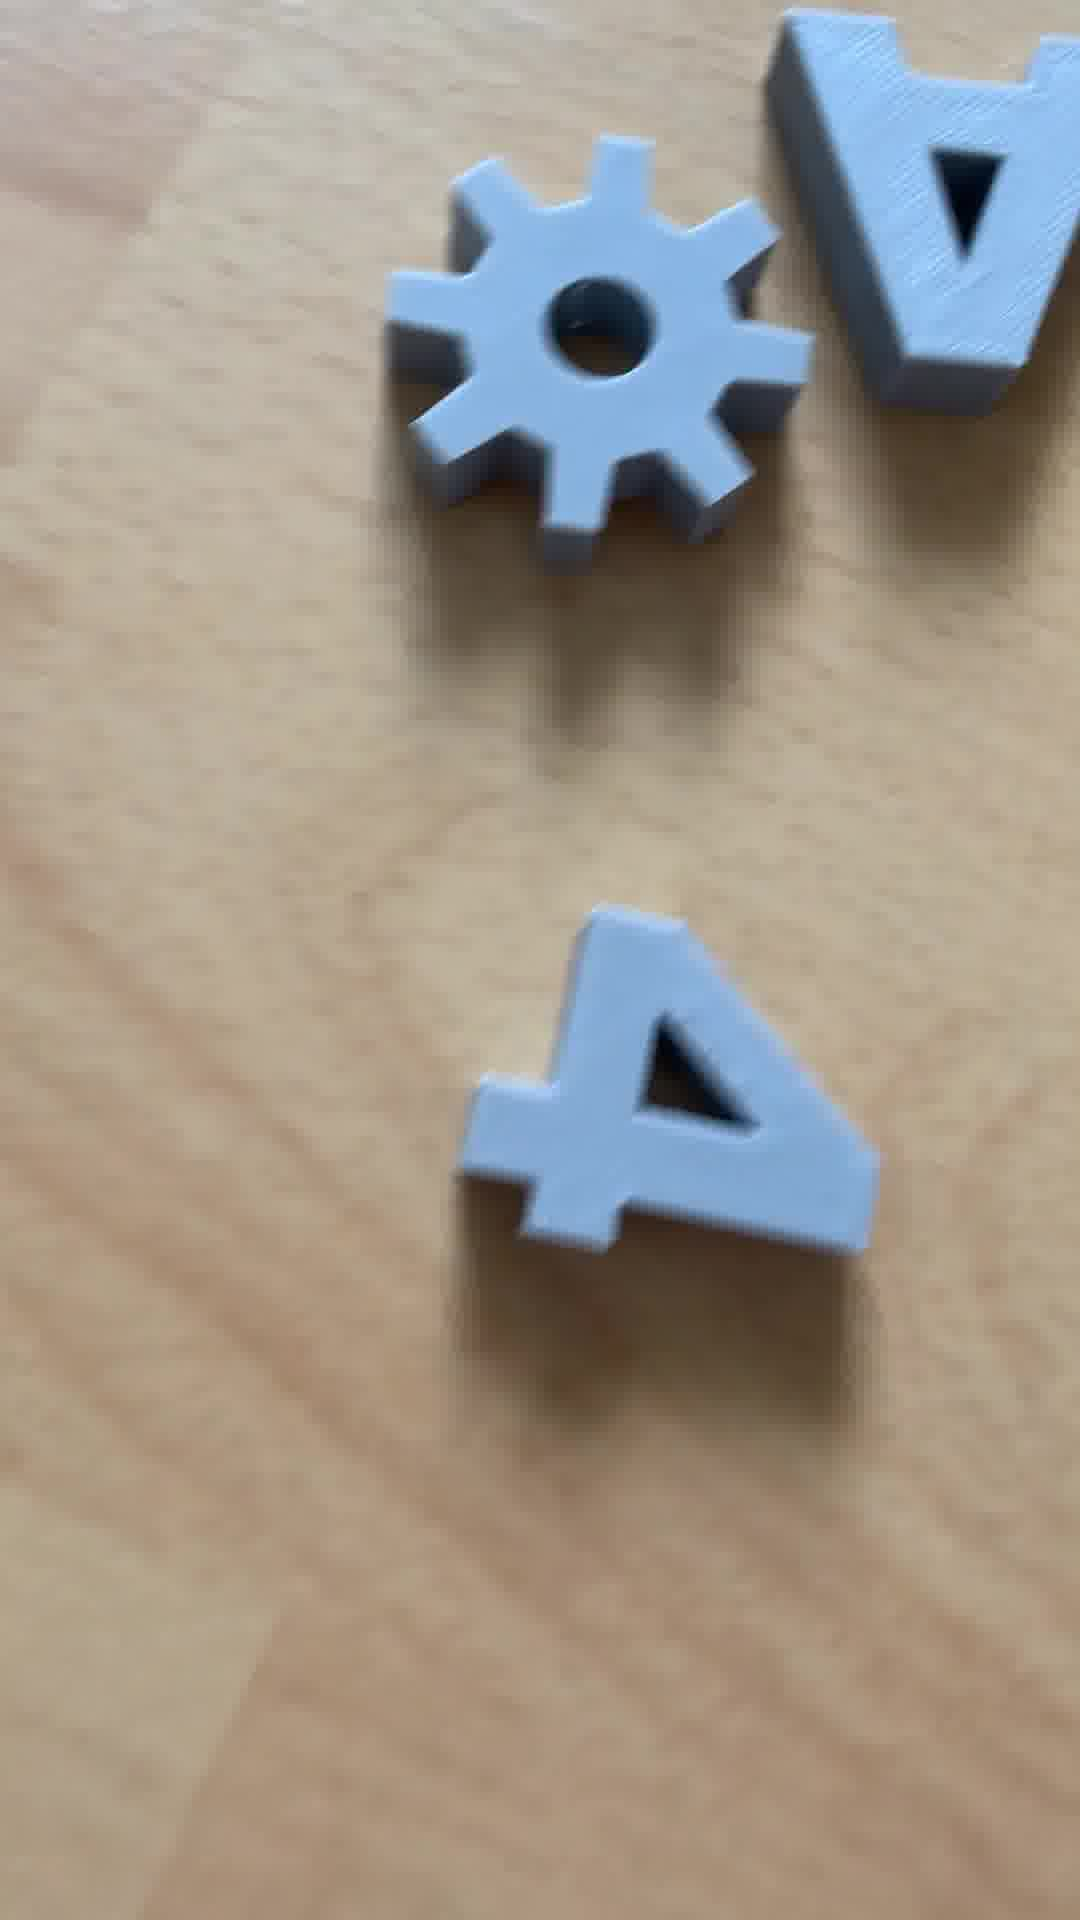Gray A-letter: (770, 22, 1080, 426)
Gray four: (443, 905, 882, 1263)
Gray gear: (376, 146, 814, 545)
